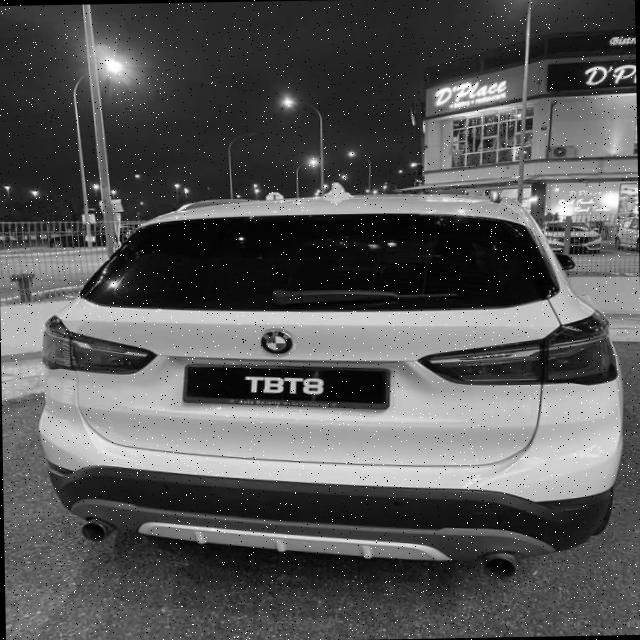License_Plate: (181, 355, 392, 421)
car: (40, 183, 630, 593)
